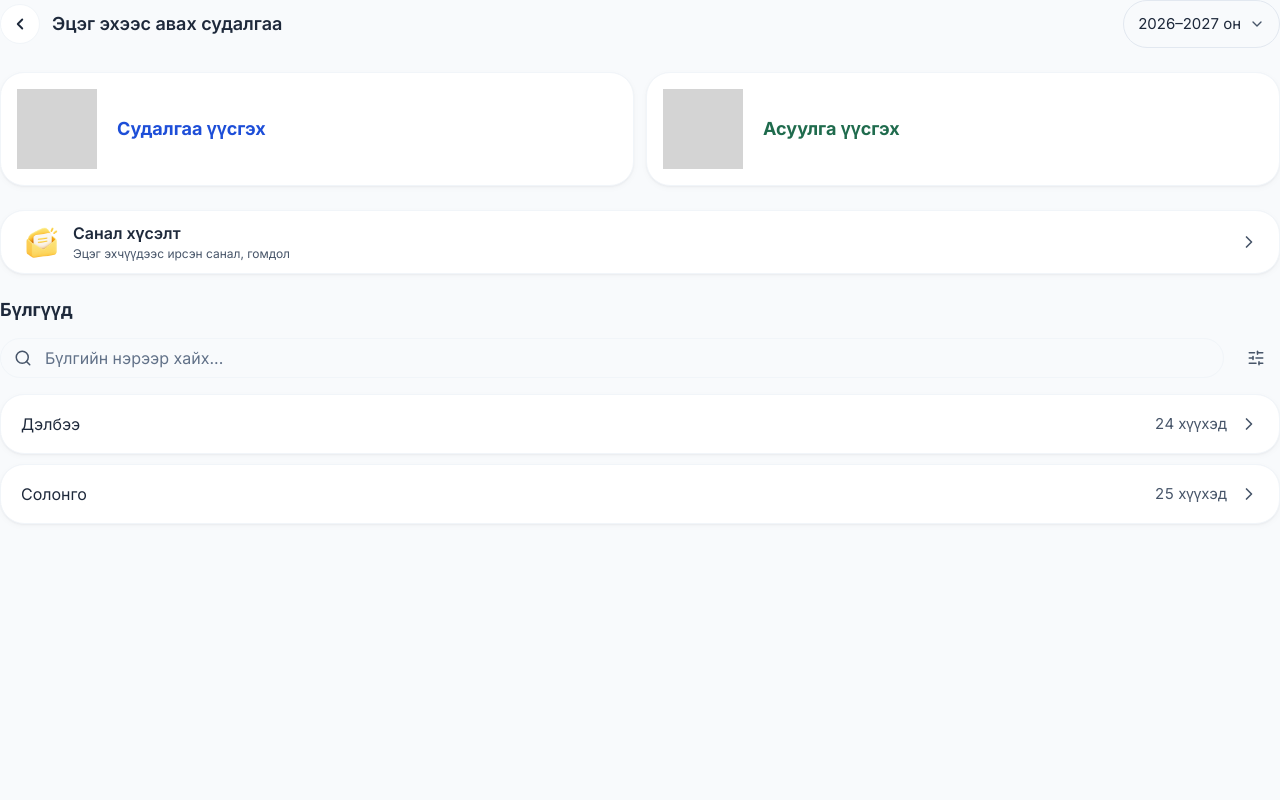
Test: the wave filter › offers Бүгд and the three waves inside the filter
The width and height of the screenshot is (1280, 800).
Check: the button "Гарааны үнэлгээ" is not shown
Step 1. Click the button named "Шүүлтүүр" → (1256, 358), box x1=1232 y1=334 x2=1279 y2=382
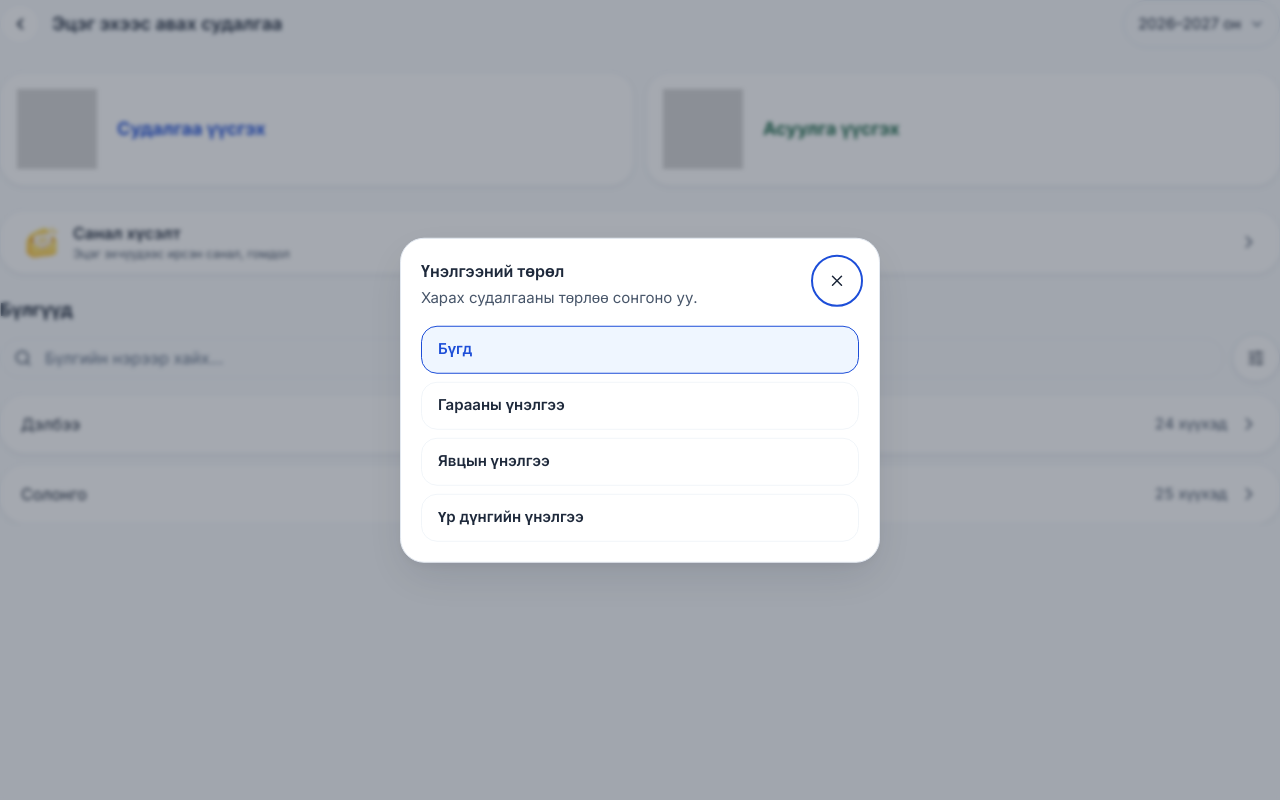
Check: the buttons read "Бүгд", "Гарааны үнэлгээ", "Явцын үнэлгээ", "Үр дүнгийн үнэлгээ", in this order, box x1=421 y1=325 x2=859 y2=373; x1=421 y1=381 x2=859 y2=429; x1=421 y1=437 x2=859 y2=485; x1=421 y1=493 x2=859 y2=541
